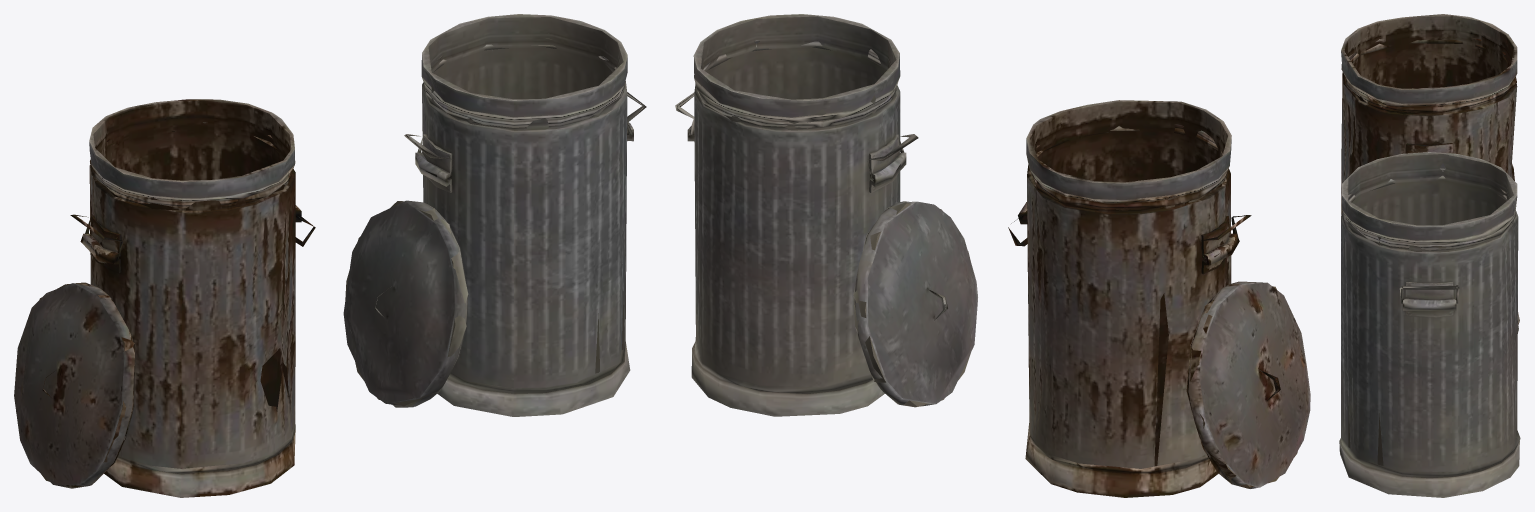
Rendered from metal_trash_can.glb.
3 views of the same model, side by side, from view 1: azimuth 30°, elevation 25°; view 2: azimuth 150°, elevation 25°; view 3: azimuth 270°, elevation 25° (orthographic). The views are drawn at different scales.
Parts seen in each view (by area): view 1: metal_trash_can_handle_left, metal_trash_can_rust; view 2: metal_trash_can_handle_left, metal_trash_can_rust; view 3: metal_trash_can_handle_left, metal_trash_can_rust.
Part boxes in pixels (x1=…): metal_trash_can_handle_left: x1=343, y1=14, x2=646, y2=416; metal_trash_can_rust: x1=14, y1=99, x2=315, y2=497; metal_trash_can_handle_left: x1=675, y1=14, x2=977, y2=416; metal_trash_can_rust: x1=1008, y1=100, x2=1310, y2=497; metal_trash_can_handle_left: x1=1339, y1=152, x2=1520, y2=497; metal_trash_can_rust: x1=1341, y1=14, x2=1519, y2=324.
Bounding box in the file's own units: 1.78 × 0.9062 × 0.5502.
2 materials, 2 textured.
